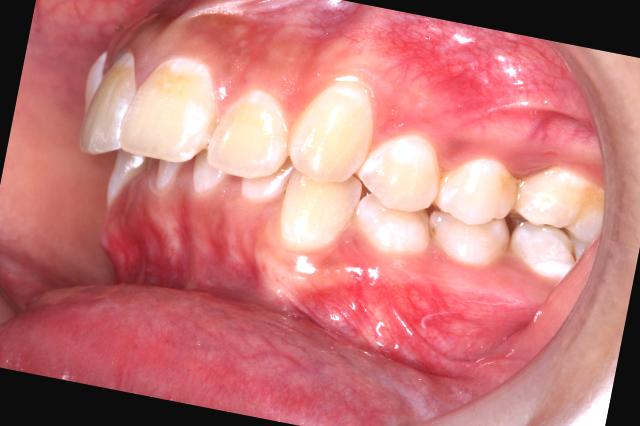canine class II 1/2: (260, 49, 459, 286)
molar class II 3/4: (499, 156, 616, 296)
